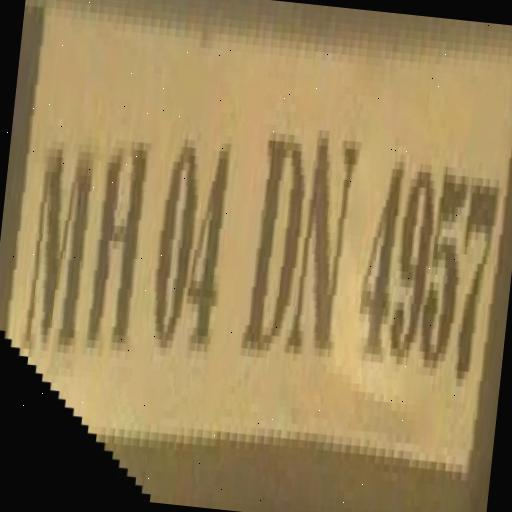number plate: (0, 0, 510, 495)
